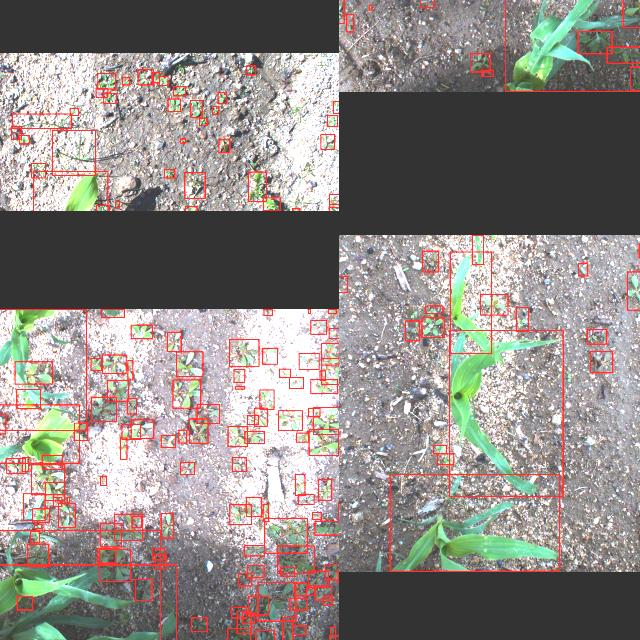crop: (449, 329, 563, 496), (0, 529, 160, 640), (390, 474, 560, 570), (0, 564, 176, 640), (505, 0, 640, 91), (0, 308, 86, 429), (0, 403, 79, 462), (450, 251, 492, 353), (34, 170, 108, 211), (23, 492, 45, 520), (472, 234, 483, 264), (102, 308, 125, 316)
weed: (52, 130, 96, 174), (264, 518, 308, 552), (258, 582, 296, 620), (278, 545, 314, 573), (12, 112, 72, 128), (32, 464, 64, 494), (100, 549, 130, 581), (229, 338, 259, 366), (14, 361, 52, 383), (173, 379, 201, 407), (578, 31, 612, 54), (309, 429, 339, 455), (312, 406, 339, 434), (114, 514, 142, 540), (177, 350, 203, 376), (92, 396, 116, 422), (480, 294, 508, 314), (248, 171, 266, 201), (607, 47, 640, 63), (185, 172, 205, 198), (627, 271, 640, 309), (622, 0, 640, 27), (321, 356, 339, 383), (100, 524, 122, 546), (17, 388, 41, 408), (278, 410, 302, 430), (130, 418, 154, 438), (591, 351, 613, 372), (197, 403, 220, 423), (102, 353, 126, 372), (28, 544, 48, 566), (230, 504, 252, 524), (422, 317, 444, 337), (190, 418, 208, 442), (59, 503, 76, 527), (228, 426, 248, 446), (108, 380, 128, 400), (310, 379, 338, 393), (470, 53, 490, 71), (248, 596, 268, 614), (136, 578, 152, 600), (322, 342, 338, 364), (46, 482, 64, 501), (160, 512, 173, 538), (315, 521, 339, 535), (42, 454, 62, 470), (308, 570, 328, 586), (246, 496, 262, 516), (299, 352, 319, 368), (404, 320, 420, 340), (587, 328, 607, 344), (422, 250, 438, 270), (237, 611, 251, 633), (98, 72, 116, 88), (516, 306, 528, 330), (318, 479, 332, 499), (260, 389, 274, 409), (132, 324, 152, 338), (167, 331, 181, 351), (227, 628, 250, 640), (7, 458, 26, 472), (262, 347, 278, 363), (74, 422, 88, 440), (98, 548, 116, 562), (122, 424, 140, 438), (630, 66, 640, 90), (244, 544, 264, 556), (244, 431, 264, 443), (32, 508, 49, 522), (255, 407, 268, 425), (283, 617, 293, 640), (31, 162, 45, 178), (138, 68, 152, 84), (248, 564, 264, 578), (17, 596, 33, 610), (325, 564, 339, 580), (315, 586, 331, 600), (191, 617, 207, 631), (311, 319, 327, 333), (190, 99, 202, 117), (295, 474, 305, 494), (321, 134, 335, 148), (238, 572, 252, 586), (232, 457, 246, 471), (264, 198, 280, 210), (290, 598, 306, 610), (160, 435, 176, 447), (255, 630, 274, 640), (218, 138, 230, 152), (154, 554, 166, 568), (232, 606, 246, 618), (294, 582, 306, 596), (181, 462, 195, 474), (127, 397, 137, 413), (298, 494, 314, 504), (120, 438, 128, 458), (438, 454, 454, 464), (233, 368, 244, 382), (289, 377, 303, 388), (168, 98, 180, 110), (346, 14, 354, 32), (90, 358, 102, 370), (152, 548, 164, 560), (243, 612, 255, 624), (425, 305, 443, 313), (11, 125, 21, 139), (281, 566, 295, 576), (578, 262, 588, 276), (329, 193, 339, 206), (339, 275, 347, 291), (104, 92, 116, 102), (327, 114, 337, 126), (0, 413, 6, 433), (132, 516, 142, 528), (296, 432, 308, 442), (434, 444, 446, 454), (339, 0, 344, 23), (292, 626, 306, 634), (308, 408, 320, 417), (246, 64, 256, 74), (19, 134, 29, 144), (52, 496, 62, 506), (30, 532, 40, 542), (248, 414, 258, 424), (329, 327, 339, 337), (420, 0, 434, 7), (96, 88, 108, 96), (173, 86, 185, 94), (179, 430, 187, 442), (96, 204, 109, 211), (218, 91, 226, 102), (163, 169, 174, 177), (22, 457, 28, 471), (152, 72, 160, 82), (158, 76, 168, 84), (312, 512, 322, 520), (128, 359, 132, 379), (280, 368, 290, 376), (185, 205, 197, 211), (333, 101, 339, 113), (323, 596, 332, 604), (330, 626, 335, 640), (122, 76, 130, 84), (212, 105, 220, 113), (306, 587, 314, 595), (264, 504, 268, 520), (482, 70, 492, 76), (320, 370, 326, 380), (329, 635, 339, 640), (70, 108, 78, 114), (199, 118, 207, 124), (328, 308, 336, 314), (264, 308, 272, 314), (100, 476, 106, 484), (114, 201, 120, 207), (34, 524, 42, 528), (180, 138, 186, 142), (292, 208, 300, 211), (368, 4, 372, 10), (236, 386, 244, 388), (68, 496, 70, 502), (308, 308, 310, 312)
